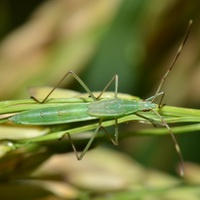insect: (0, 71, 199, 199)
